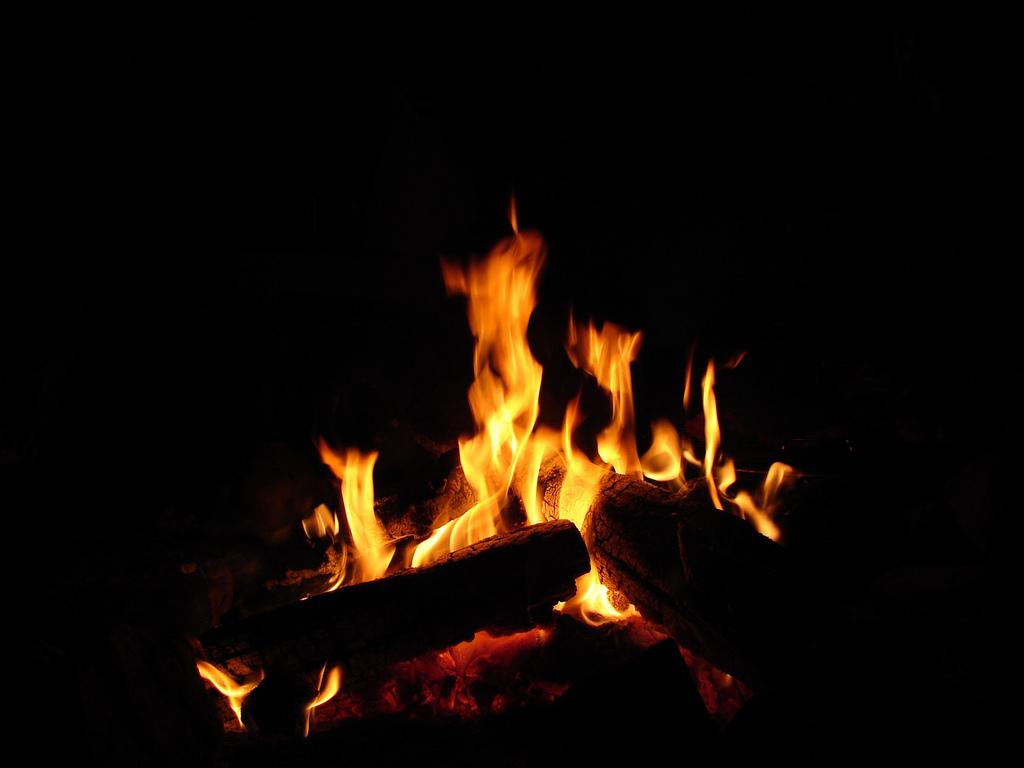fire: (468, 268, 532, 524), (588, 334, 652, 488), (328, 454, 384, 578)
